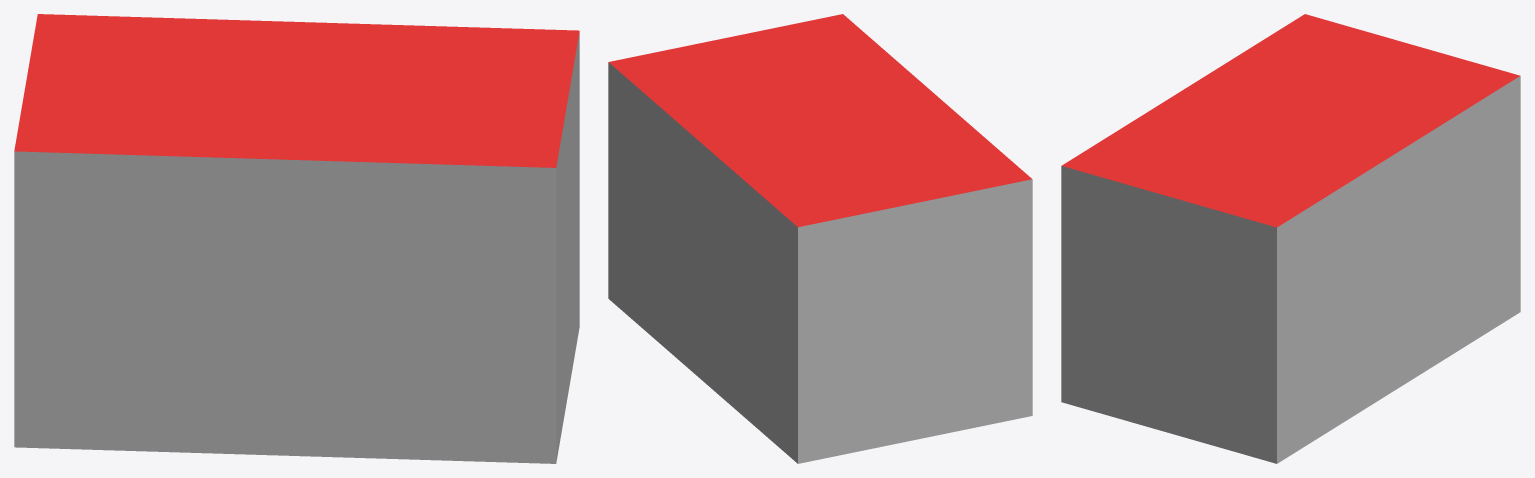
File: ID_233093da-c212-402a-a66f-6a53290dcba5.dae
3 views of the same model, side by side, from view 1: azimuth 30°, elevation 25°; view 2: azimuth 150°, elevation 25°; view 3: azimuth 270°, elevation 25° (orthographic). The views are drawn at different scales.
Bounding box in the file's own units: 25.23 × 22.92 × 13.02.
